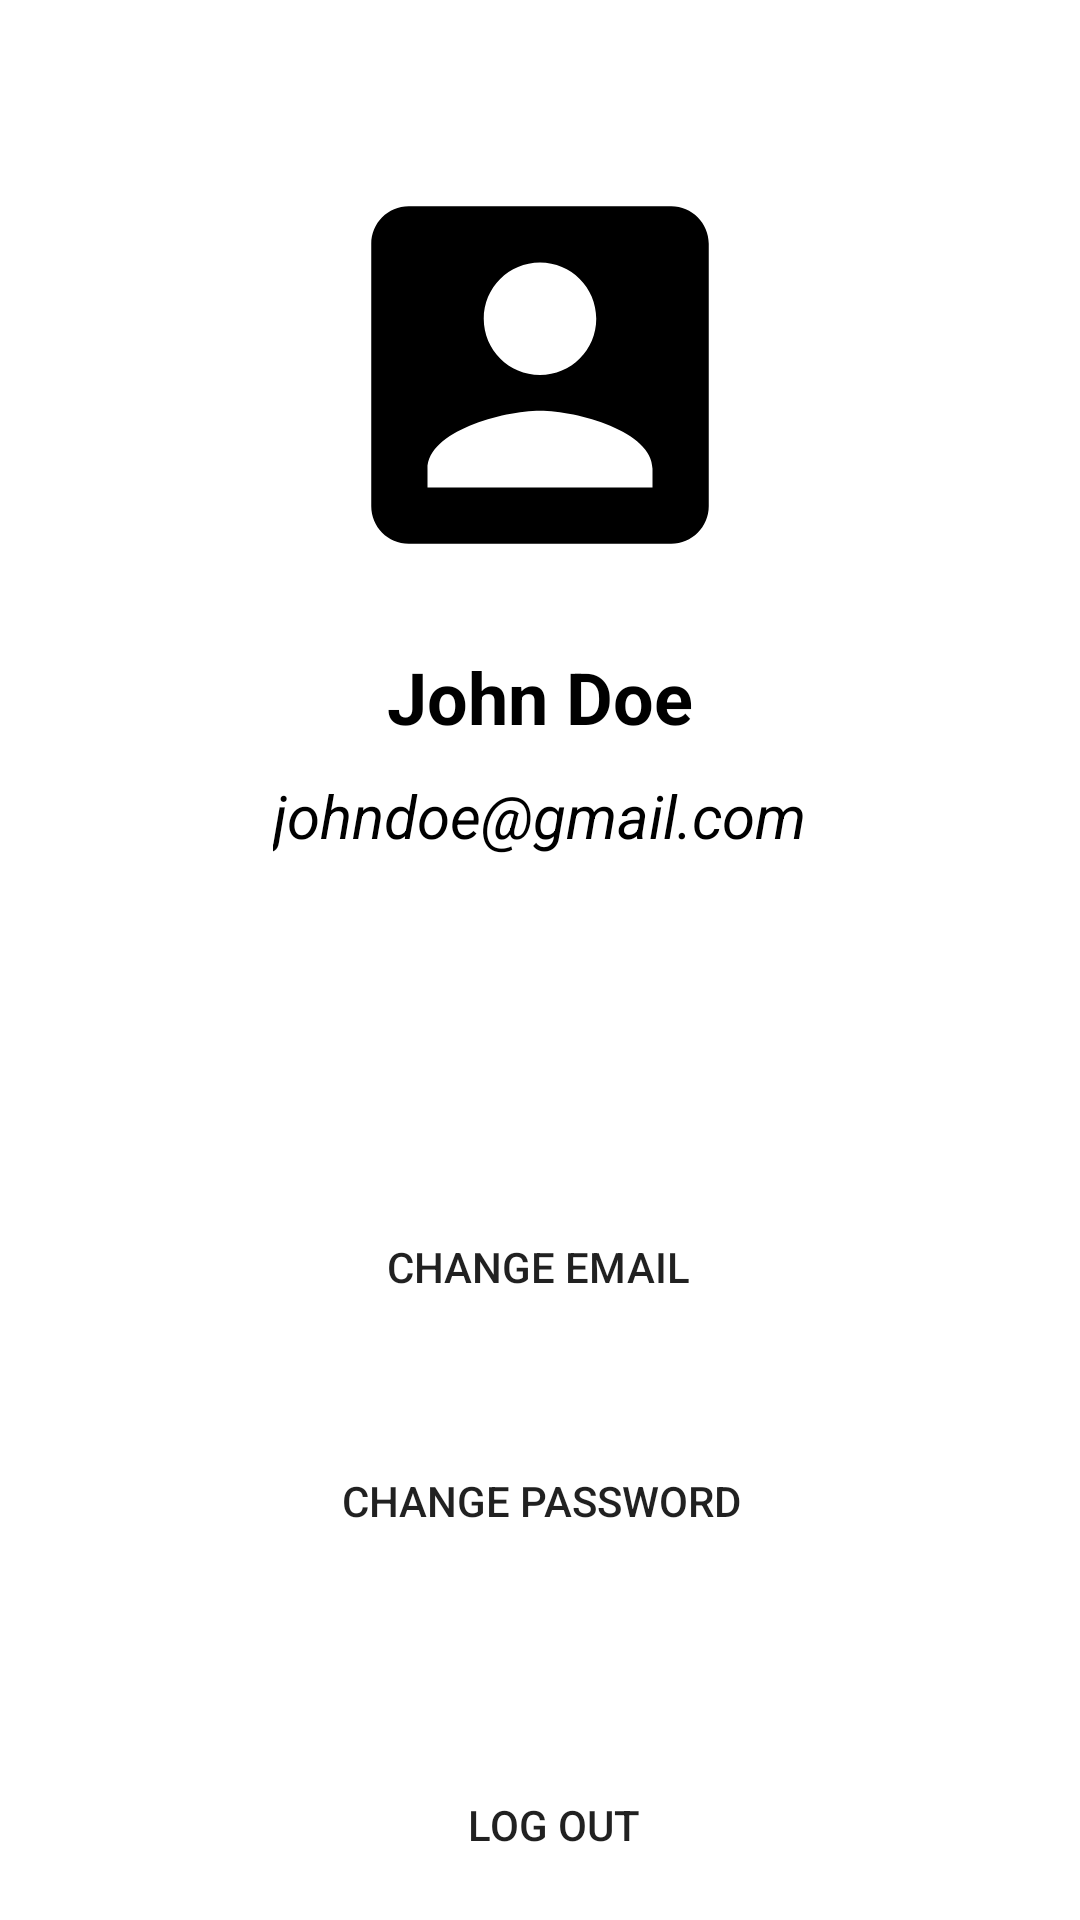

Where to tap for icons on this 1080px x 1920px app screen, as (x=x, y=y):
account box: (x=540, y=375)
